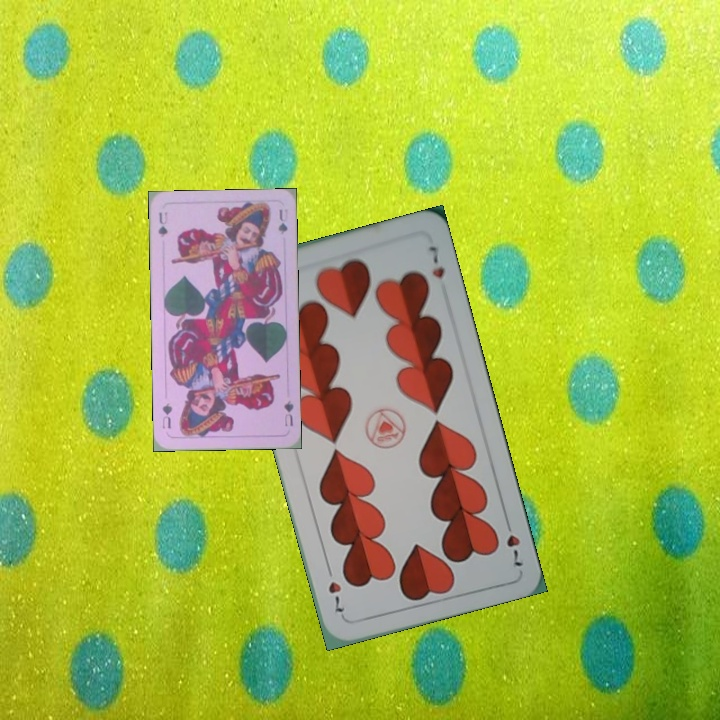GU: (154, 208, 171, 240), (280, 396, 296, 429)
H7: (500, 513, 525, 570)
